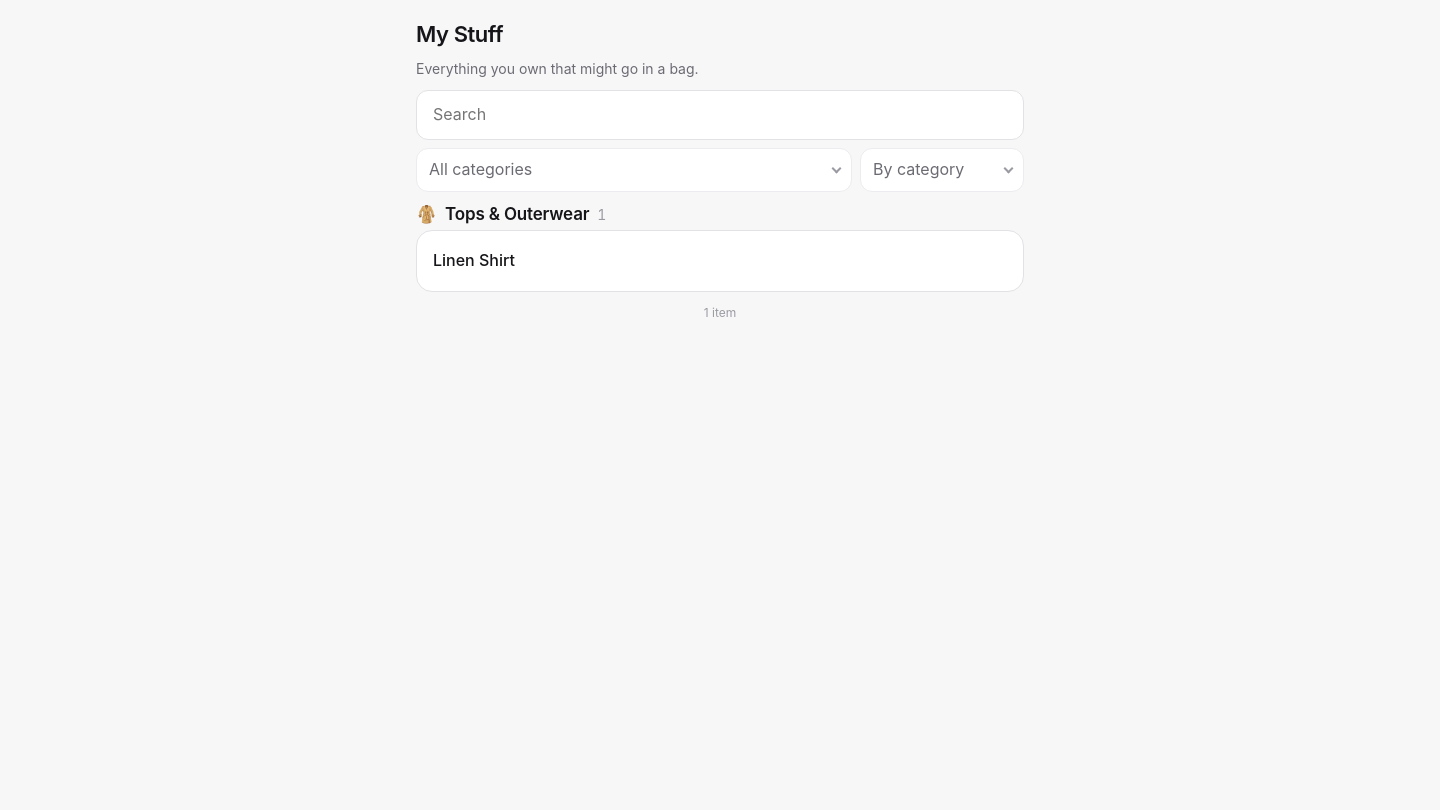
Test: archiving from My Stuff › offers to take it back, naming what went
The image size is (1440, 810).
Click the button "Linen Shirt" at x=474, y=260, box [417,231,1023,291]
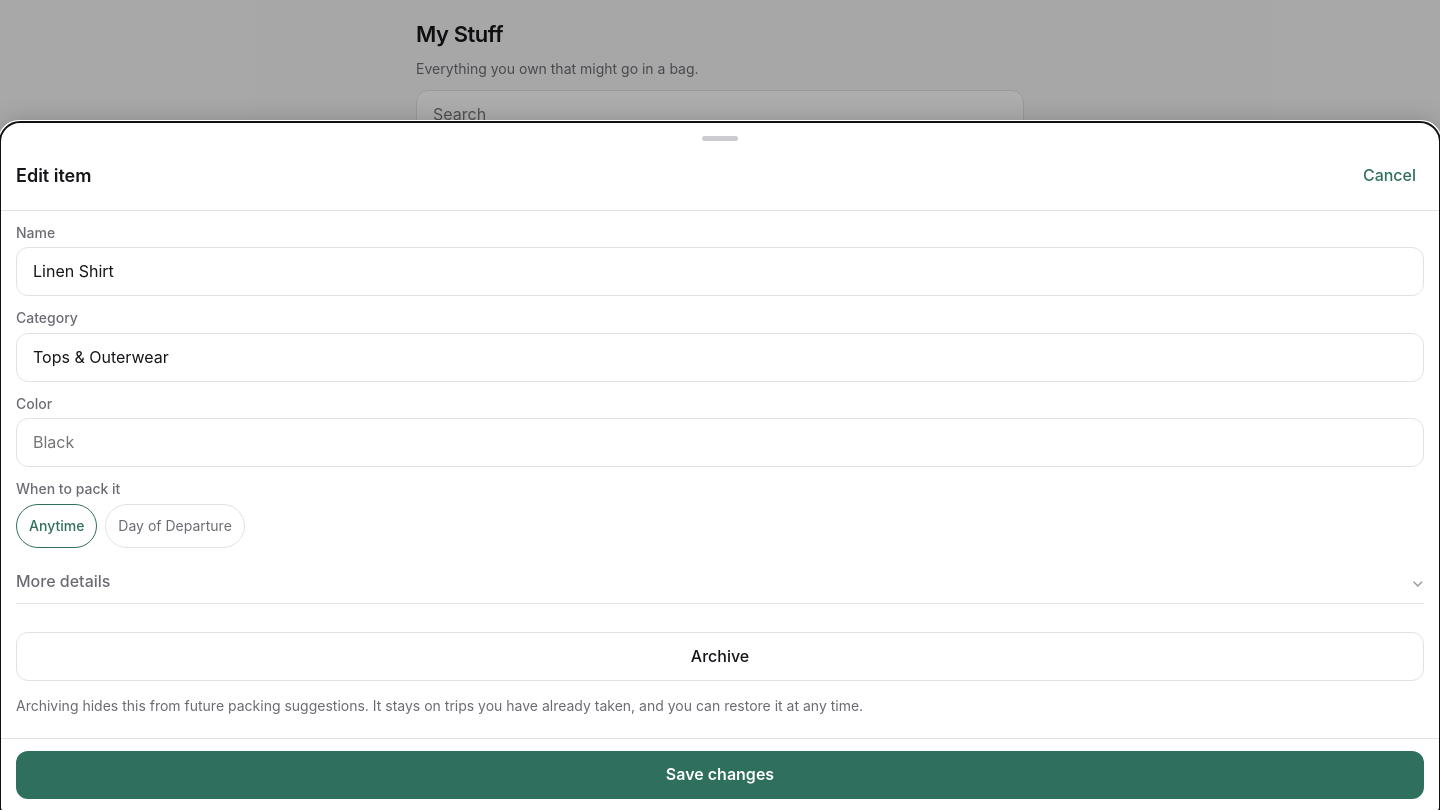
Click the button "Archive" at x=720, y=656, box [16,631,1424,680]
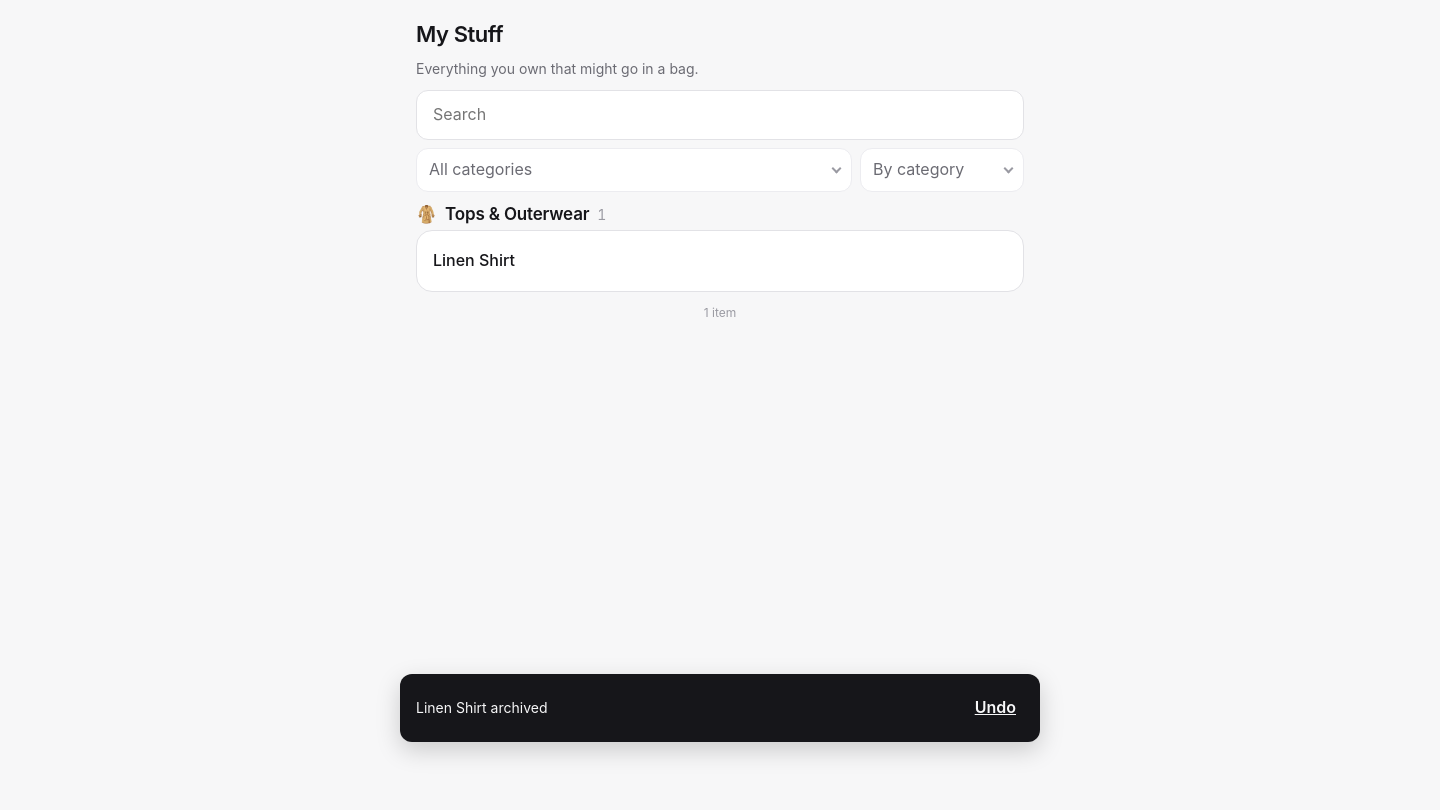
expect the text "Linen Shirt archived" is shown: met, box [416,698,548,718]
